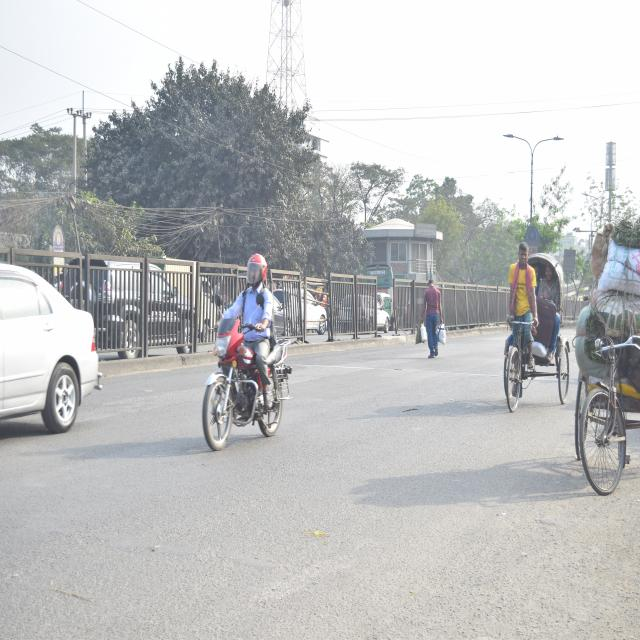car: (0, 256, 100, 439)
motorbike: (193, 294, 291, 452)
